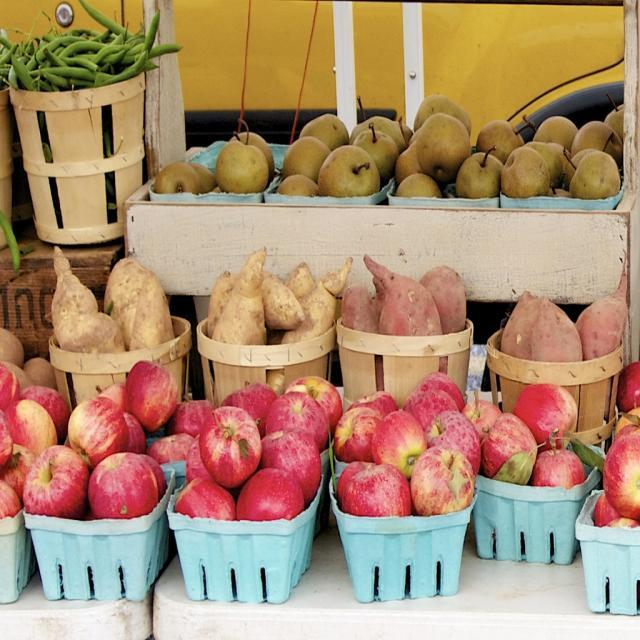Apple pie: (0, 358, 640, 526), (154, 95, 626, 194), (80, 453, 156, 531)
